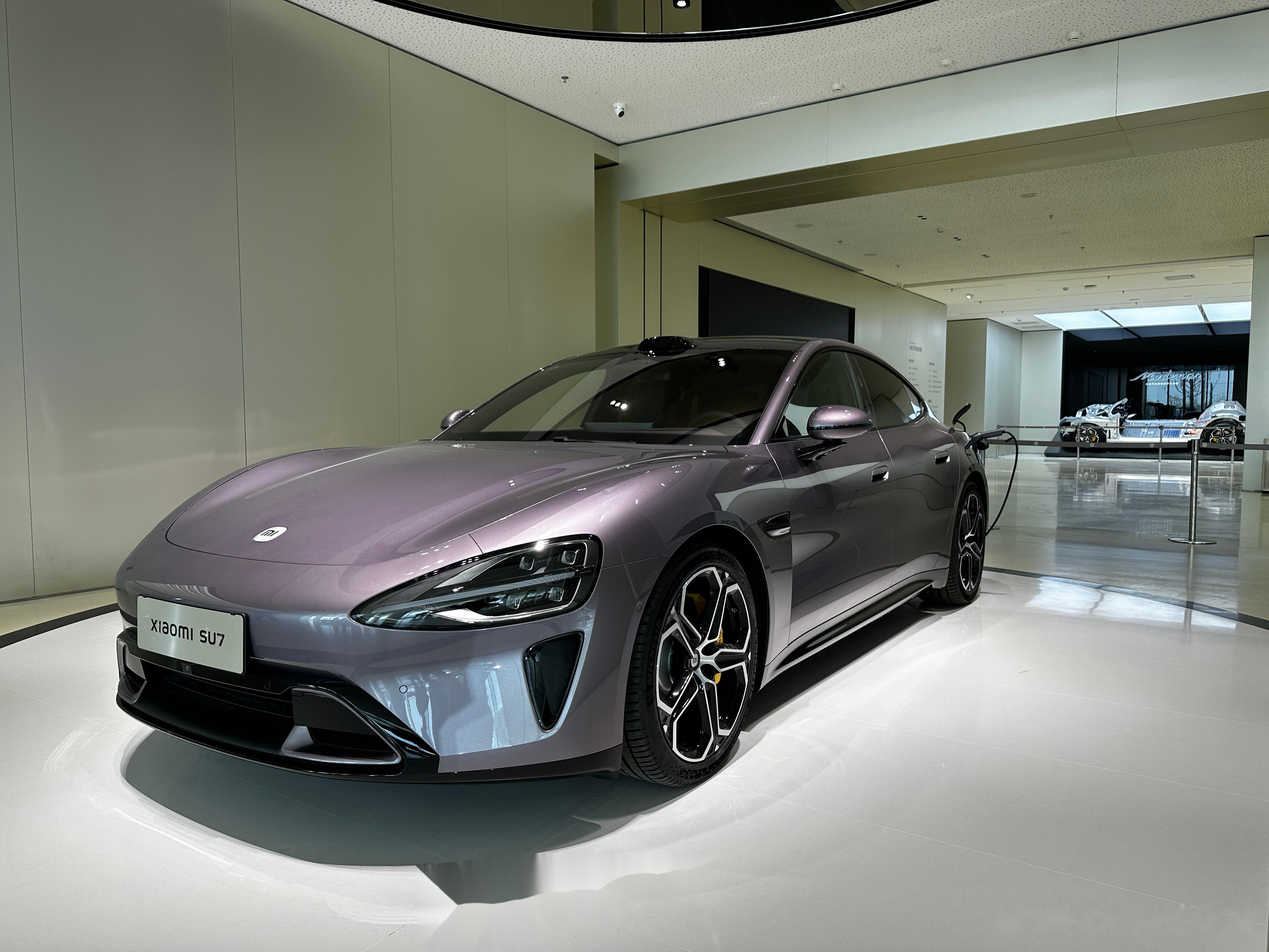su7: (105, 311, 984, 790)
